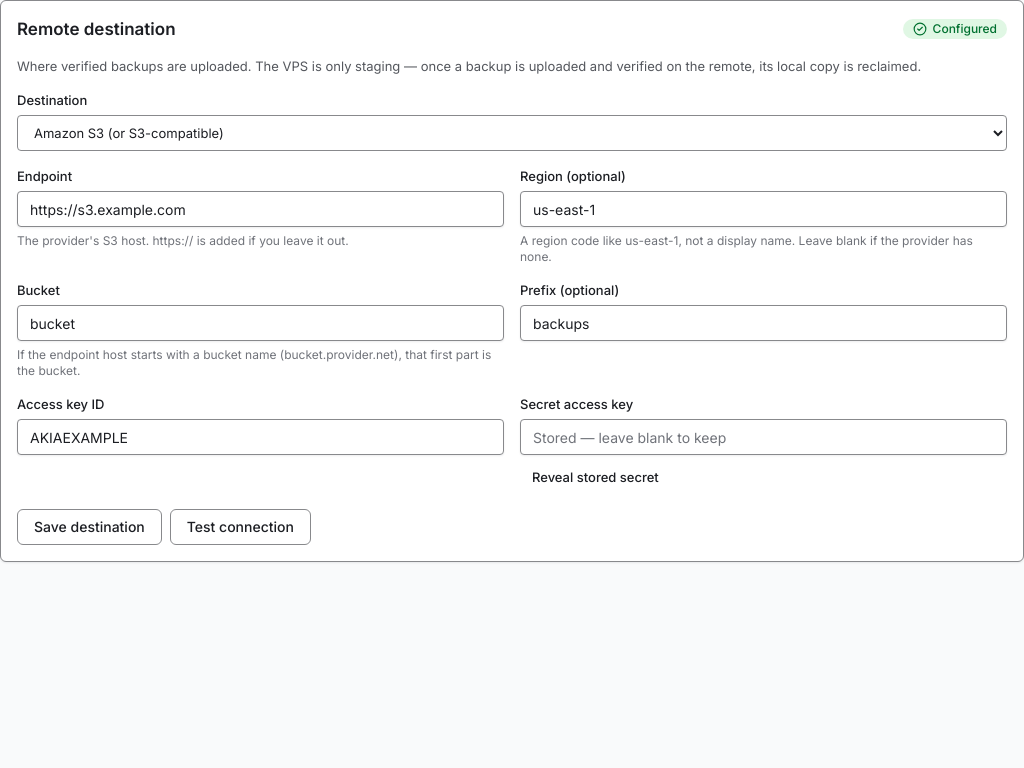
Test: RemoteDestinationCard › shows a ZodError from the API wrapper’s own parse inline, like server validation details
The image size is (1024, 768).
Expected: the text "Configured" is shown, [933,21,997,37]
What coordinates should you click on to do the following:
click the button "Save destination"
I would click on:
 (89, 527)
Its box is [17,509,162,545].
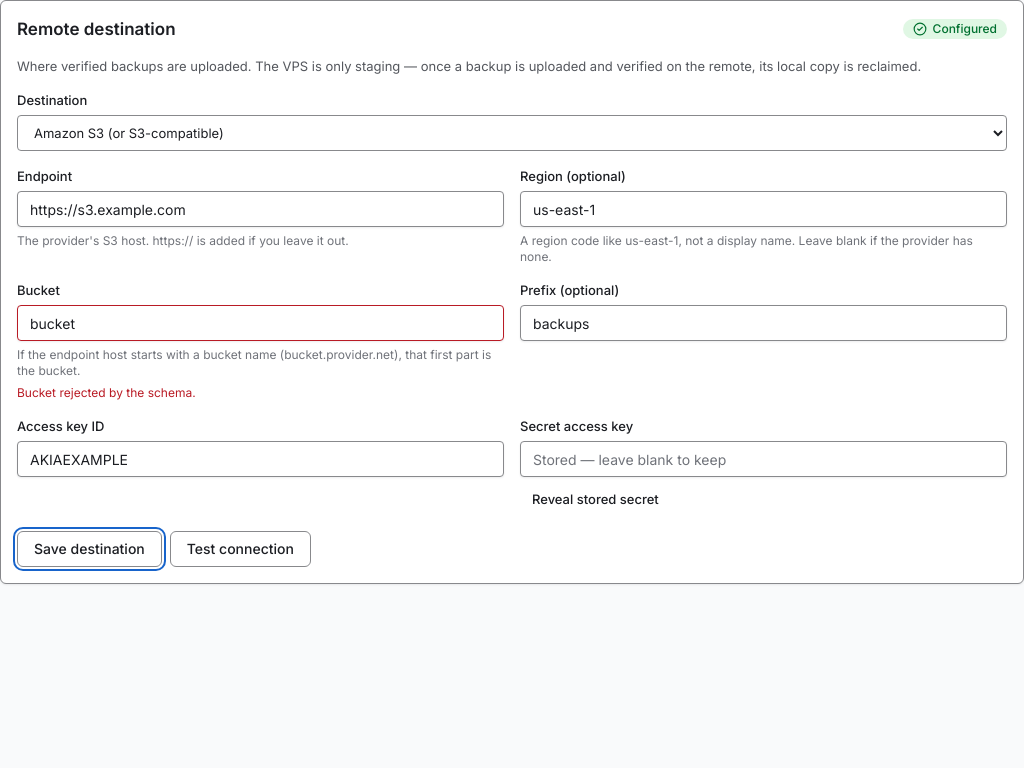
Result: the message reads "Bucket rejected by the schema." at [17,385,196,400]
